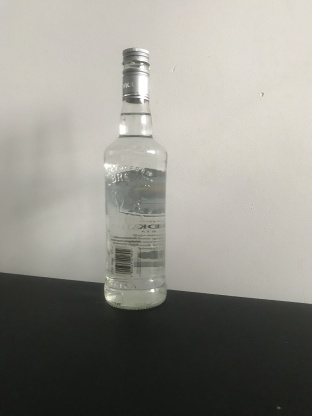nakretka: (120, 46, 151, 104)
